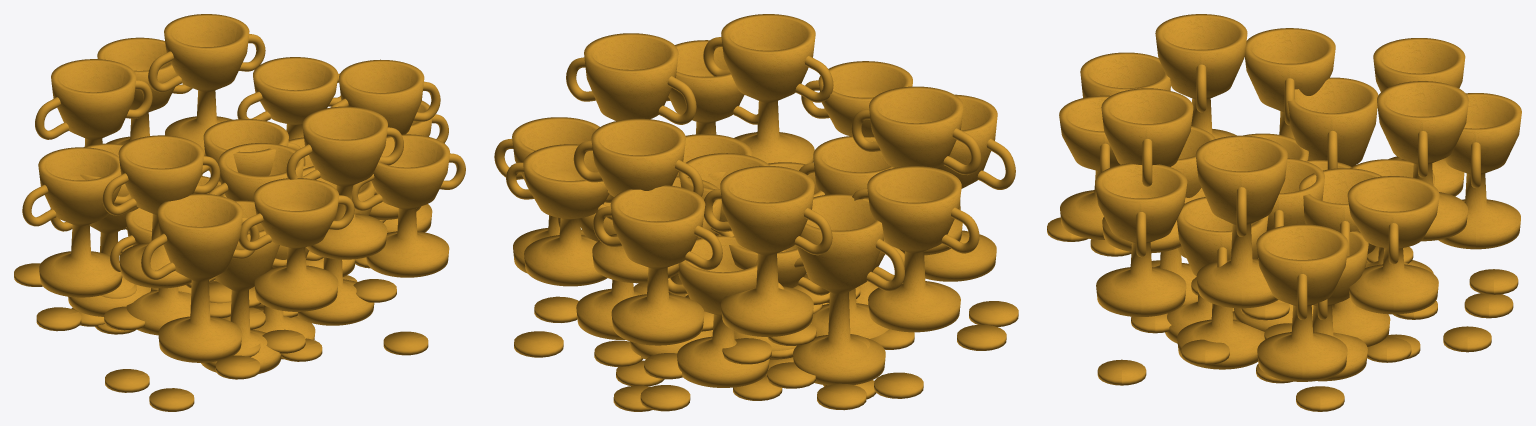
File: treasure.glb
3 renders of one model, left to right at view 1: azimuth 30°, elevation 25°; view 2: azimuth 150°, elevation 25°; view 3: azimuth 270°, elevation 25°, orthographic. The views are drawn at different scales.
Parts seen in each view (by area): view 1: treasure_aged gold; view 2: treasure_aged gold; view 3: treasure_aged gold.
Part boxes in pixels (box(x1,y1,x2,y2)): treasure_aged gold: box(14, 14, 465, 411); treasure_aged gold: box(494, 14, 1018, 411); treasure_aged gold: box(1047, 14, 1521, 411).
Size of the model in its own units: 1.28 by 0.6523 by 1.13.
Materials: 1 (1 with a texture image).
